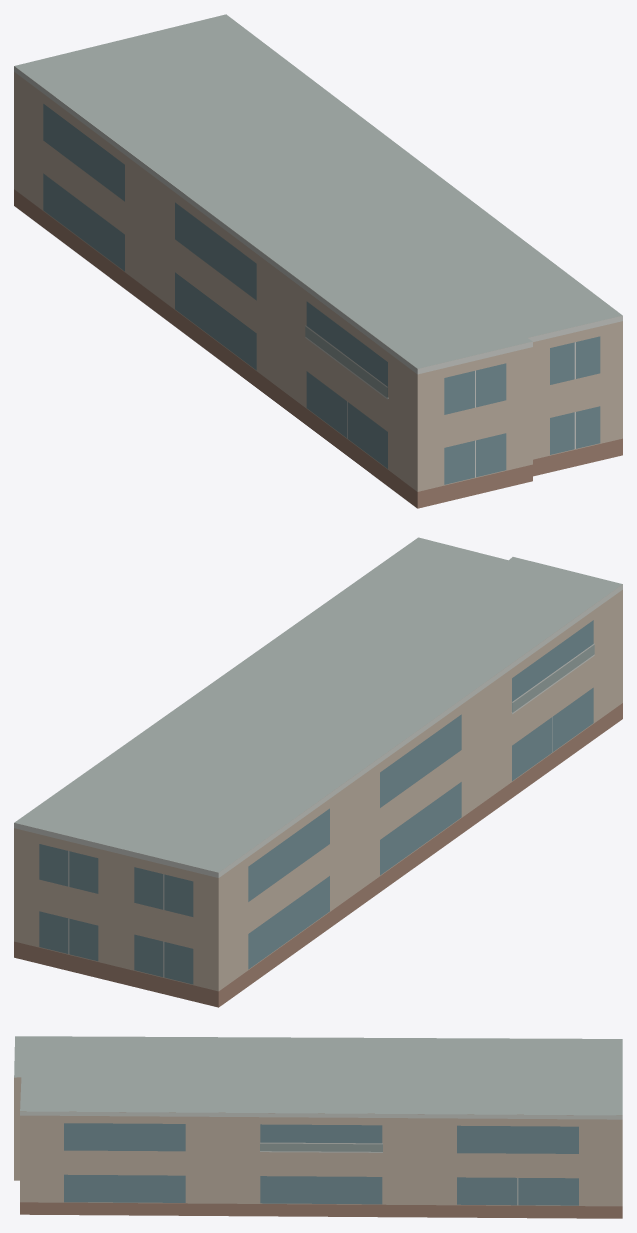
File: survey-upis-32609313.glb
3 renders of one model, top to bottom at view 1: azimuth 30°, elevation 25°; view 2: azimuth 150°, elevation 25°; view 3: azimuth 270°, elevation 25°, orthographic. The views are drawn at different scales.
Visible parts, largest first — view 1: survey-upis-32609313.tmp; view 2: survey-upis-32609313.tmp; view 3: survey-upis-32609313.tmp.
Boxes of the visible parts, x1,y1,x2,y2 form: survey-upis-32609313.tmp: [14, 14, 622, 508]; survey-upis-32609313.tmp: [14, 537, 622, 1007]; survey-upis-32609313.tmp: [14, 1036, 622, 1218].
Bounding box in the file's own units: 10.06 × 6.1 × 32.6.
